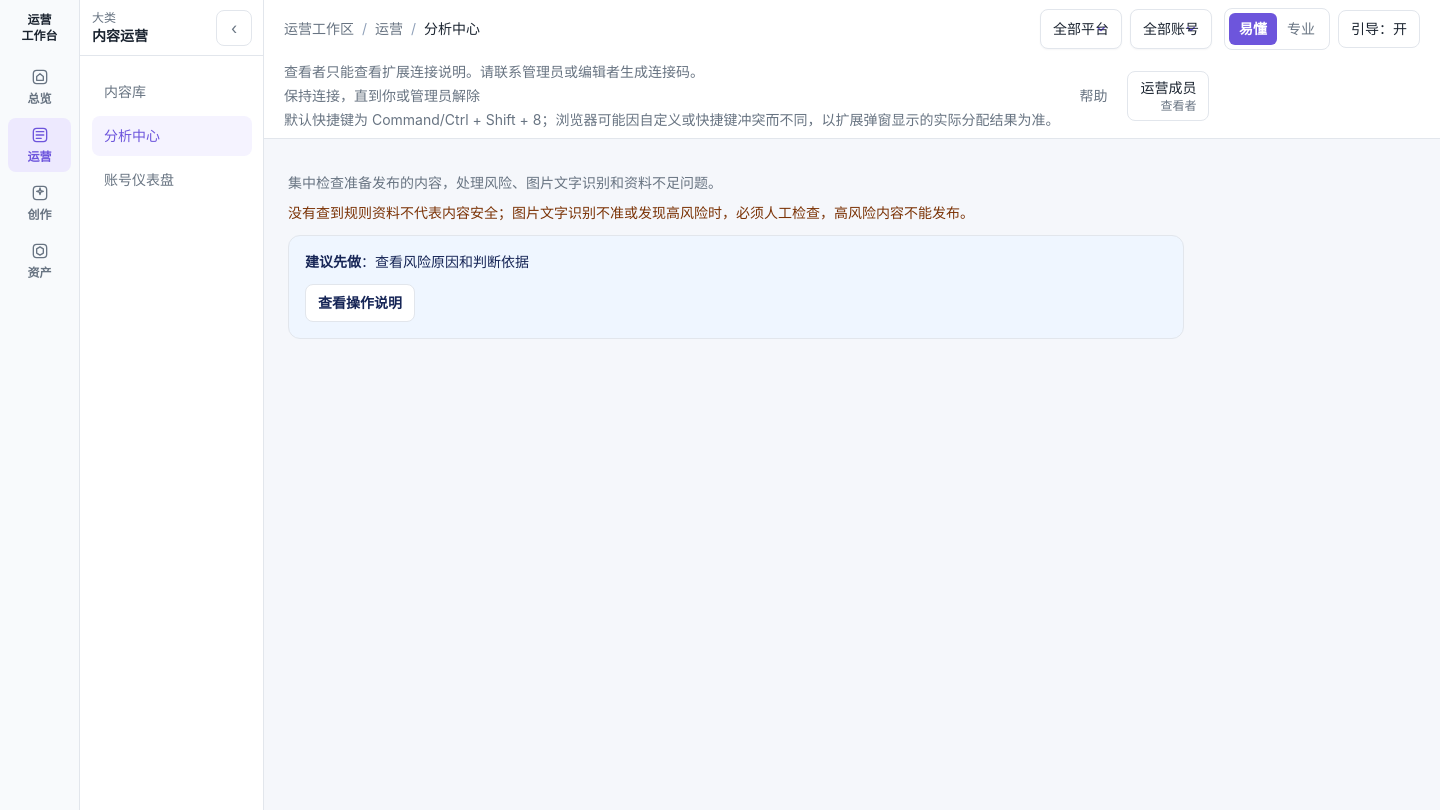
keeps the preflight safety blocker visible to viewers
Click the button "查看操作说明" at (360, 303), box 305,284 -> 415,322
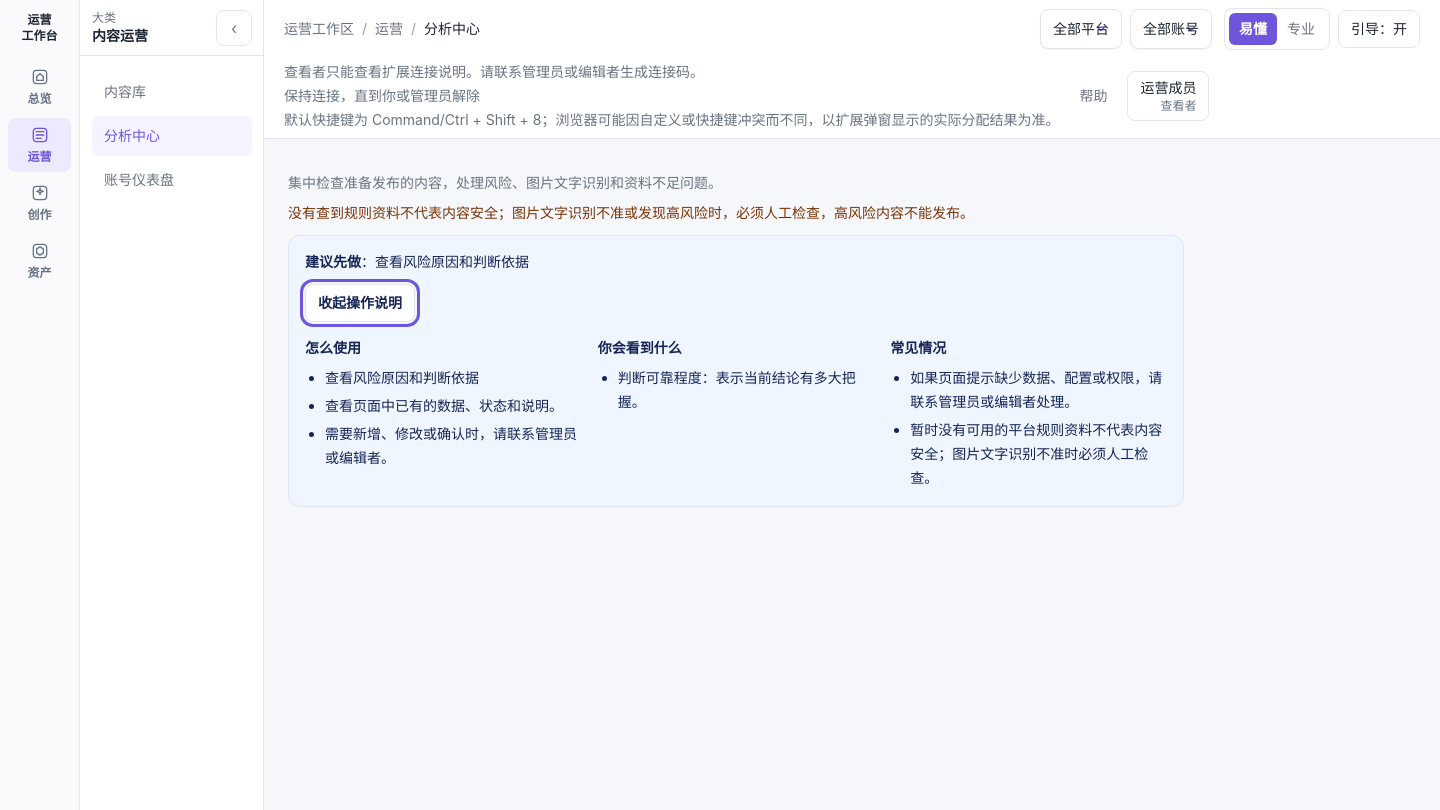
Expected: the list item "如果页面提示缺少数据、配置或权限，请联系管理员或编辑者处理。" is shown, 910,366 -> 1167,414
Expected: the list item "暂时没有可用的平台规则资料不代表内容安全；图片文字识别不准时必须人工检查。" is shown, 910,418 -> 1167,490
